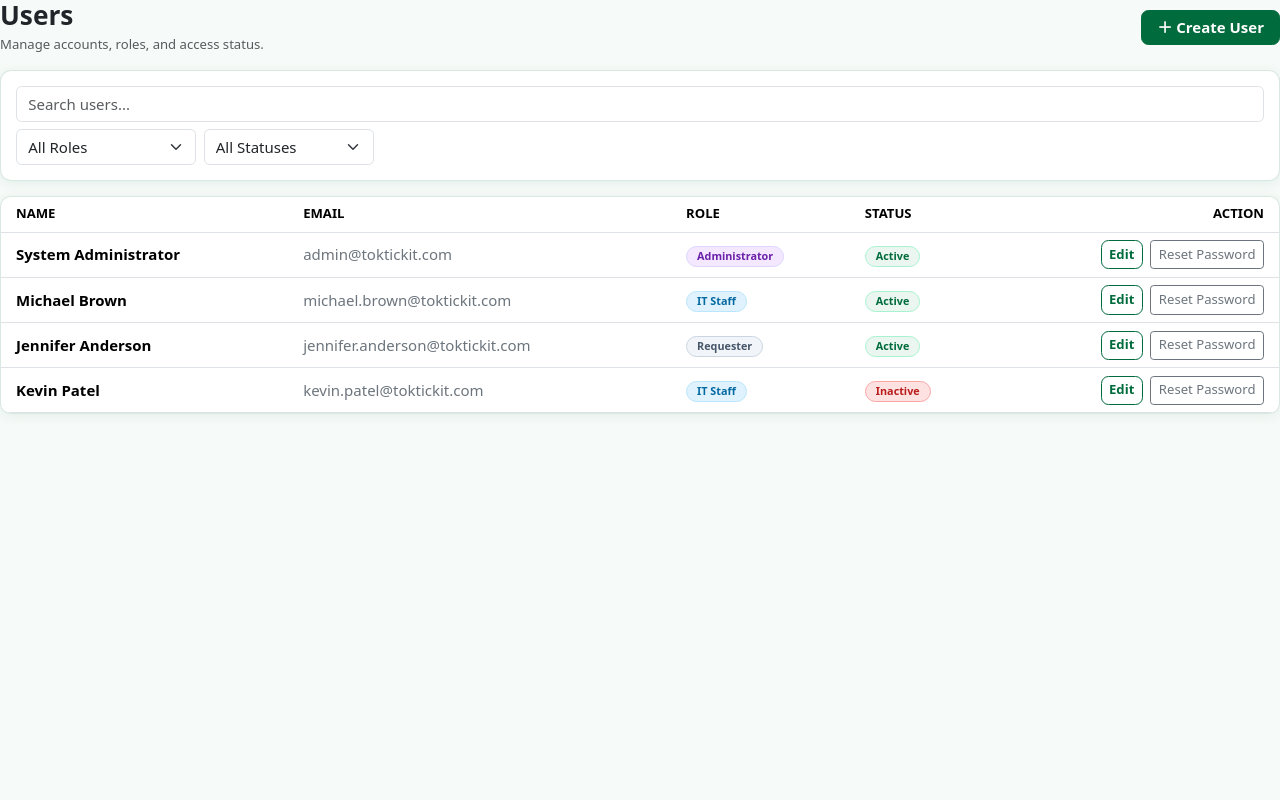
Test: UserManagement Screen (/admin/users) › creates a new user through the Create User modal
Expected: the text "System Administrator" is shown, [1,232,296,277]
Click the button "＋ Create User" at (1211, 28), box [1141,10,1279,45]
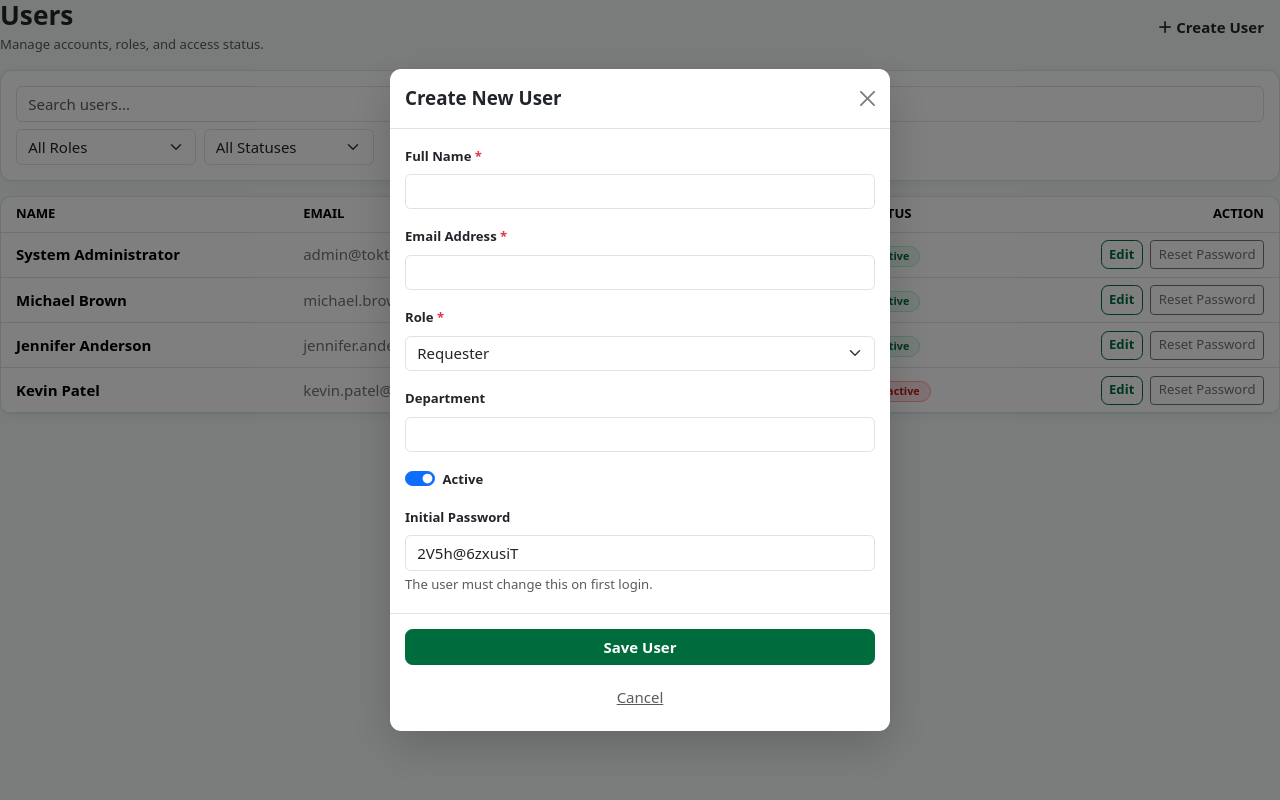
Type "New Person" into the field labelled "Full Name *" at (640, 192), box [405,174,875,210]
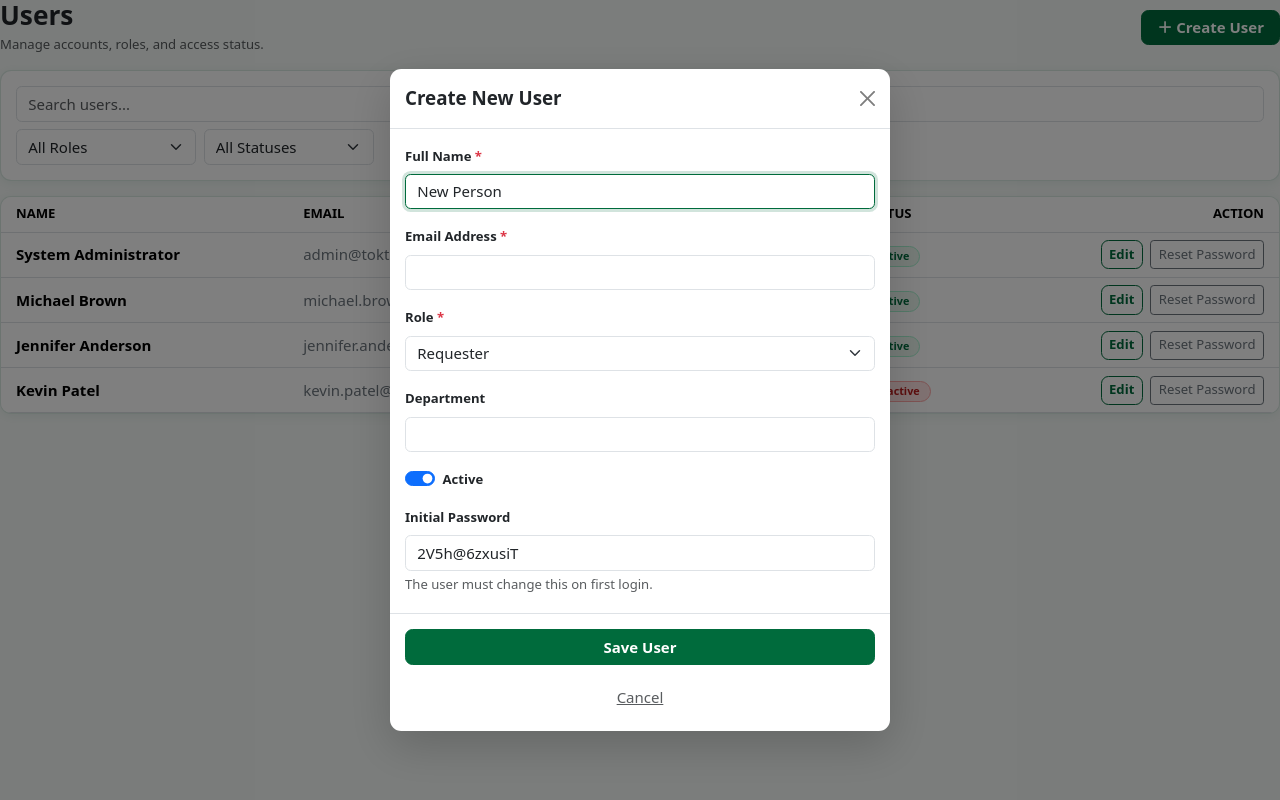
Type "new.person@toktickit.com" into the field labelled "Email Address *" at (640, 273), box [405,255,875,290]
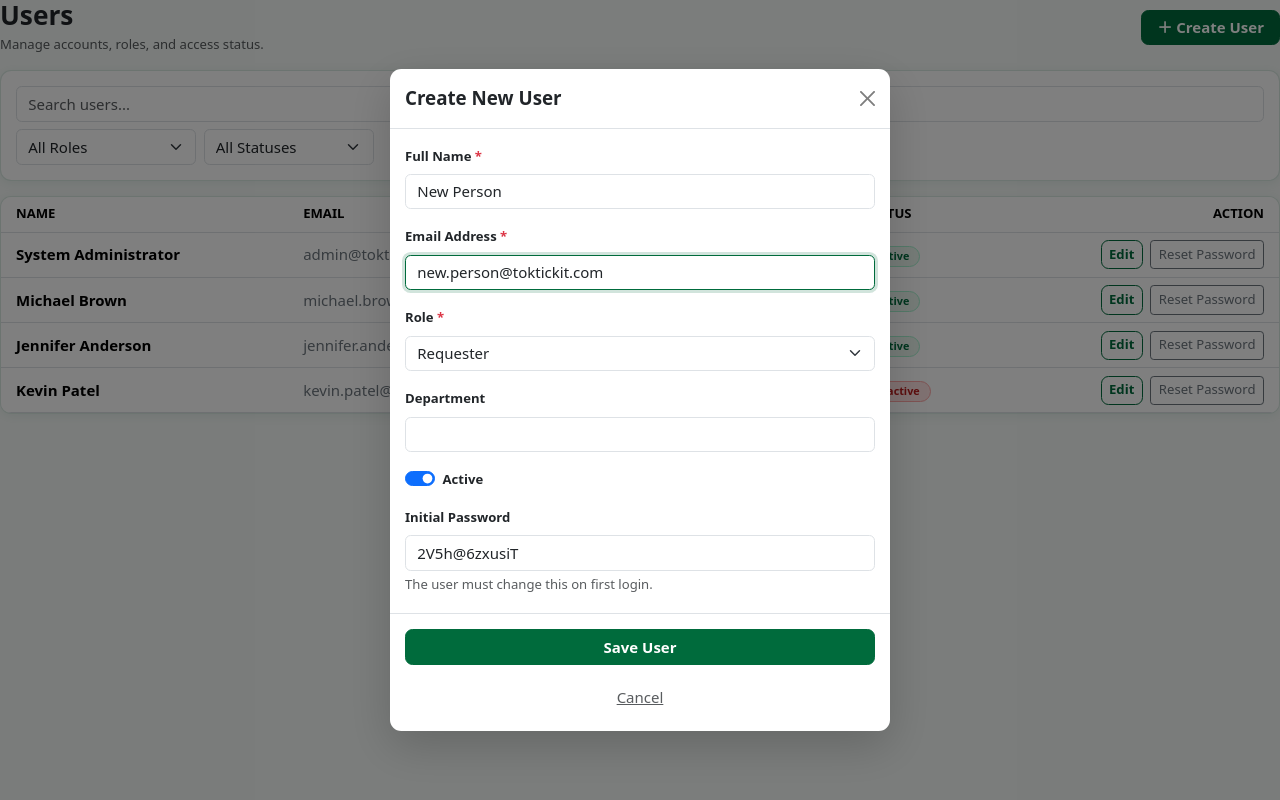
Select "IT Staff" in the dropdown labelled "Role *" at (640, 354), box [405,336,875,371]
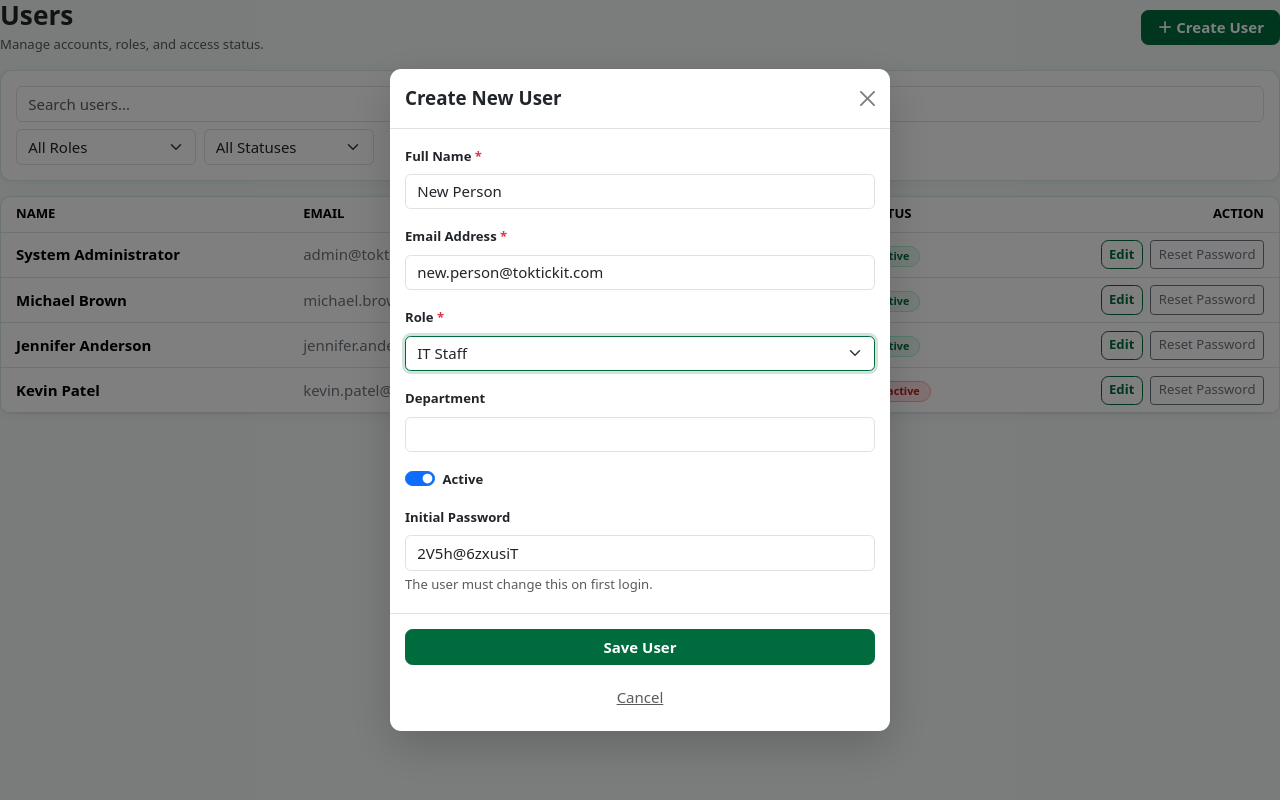
Click the button "Save User" at (640, 647), box [405,629,875,665]
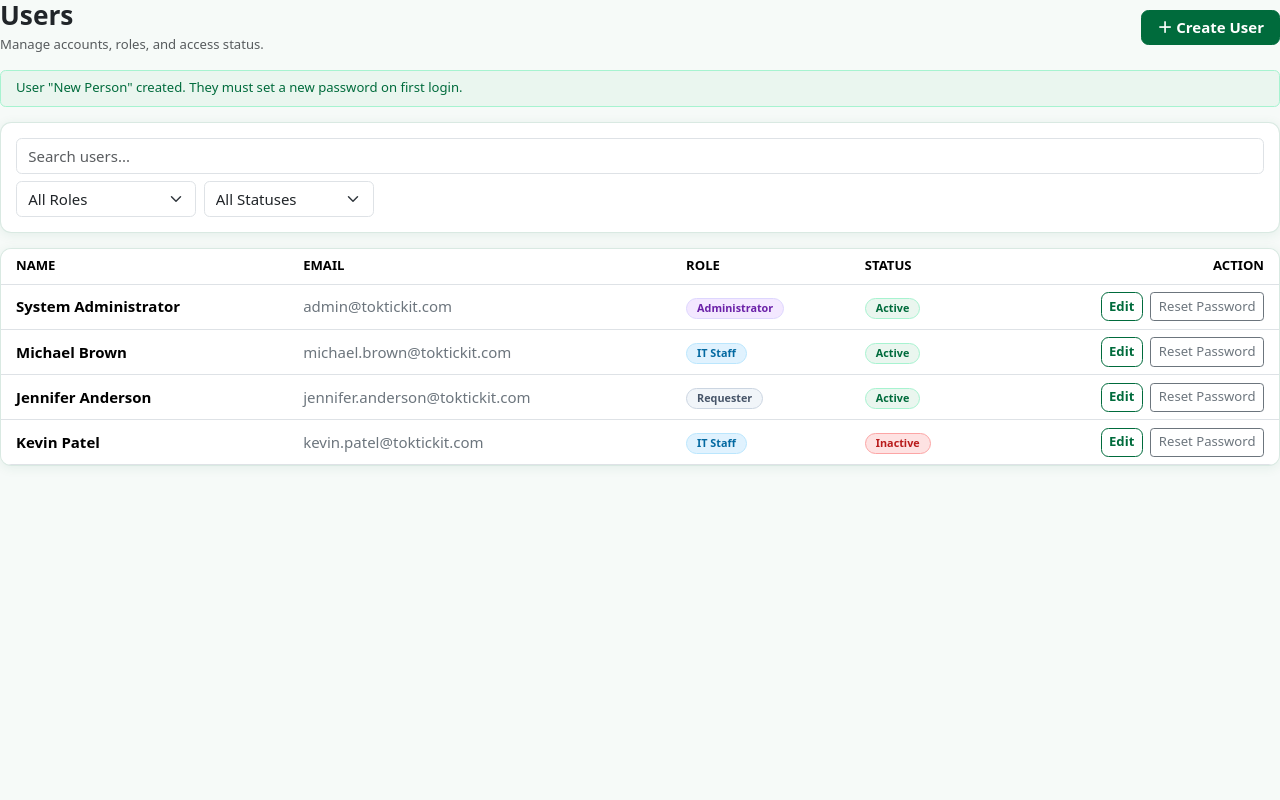
Expected: the text "User \"New Person\" created. They must set a new password on first login." is shown, [0,70,1279,107]
